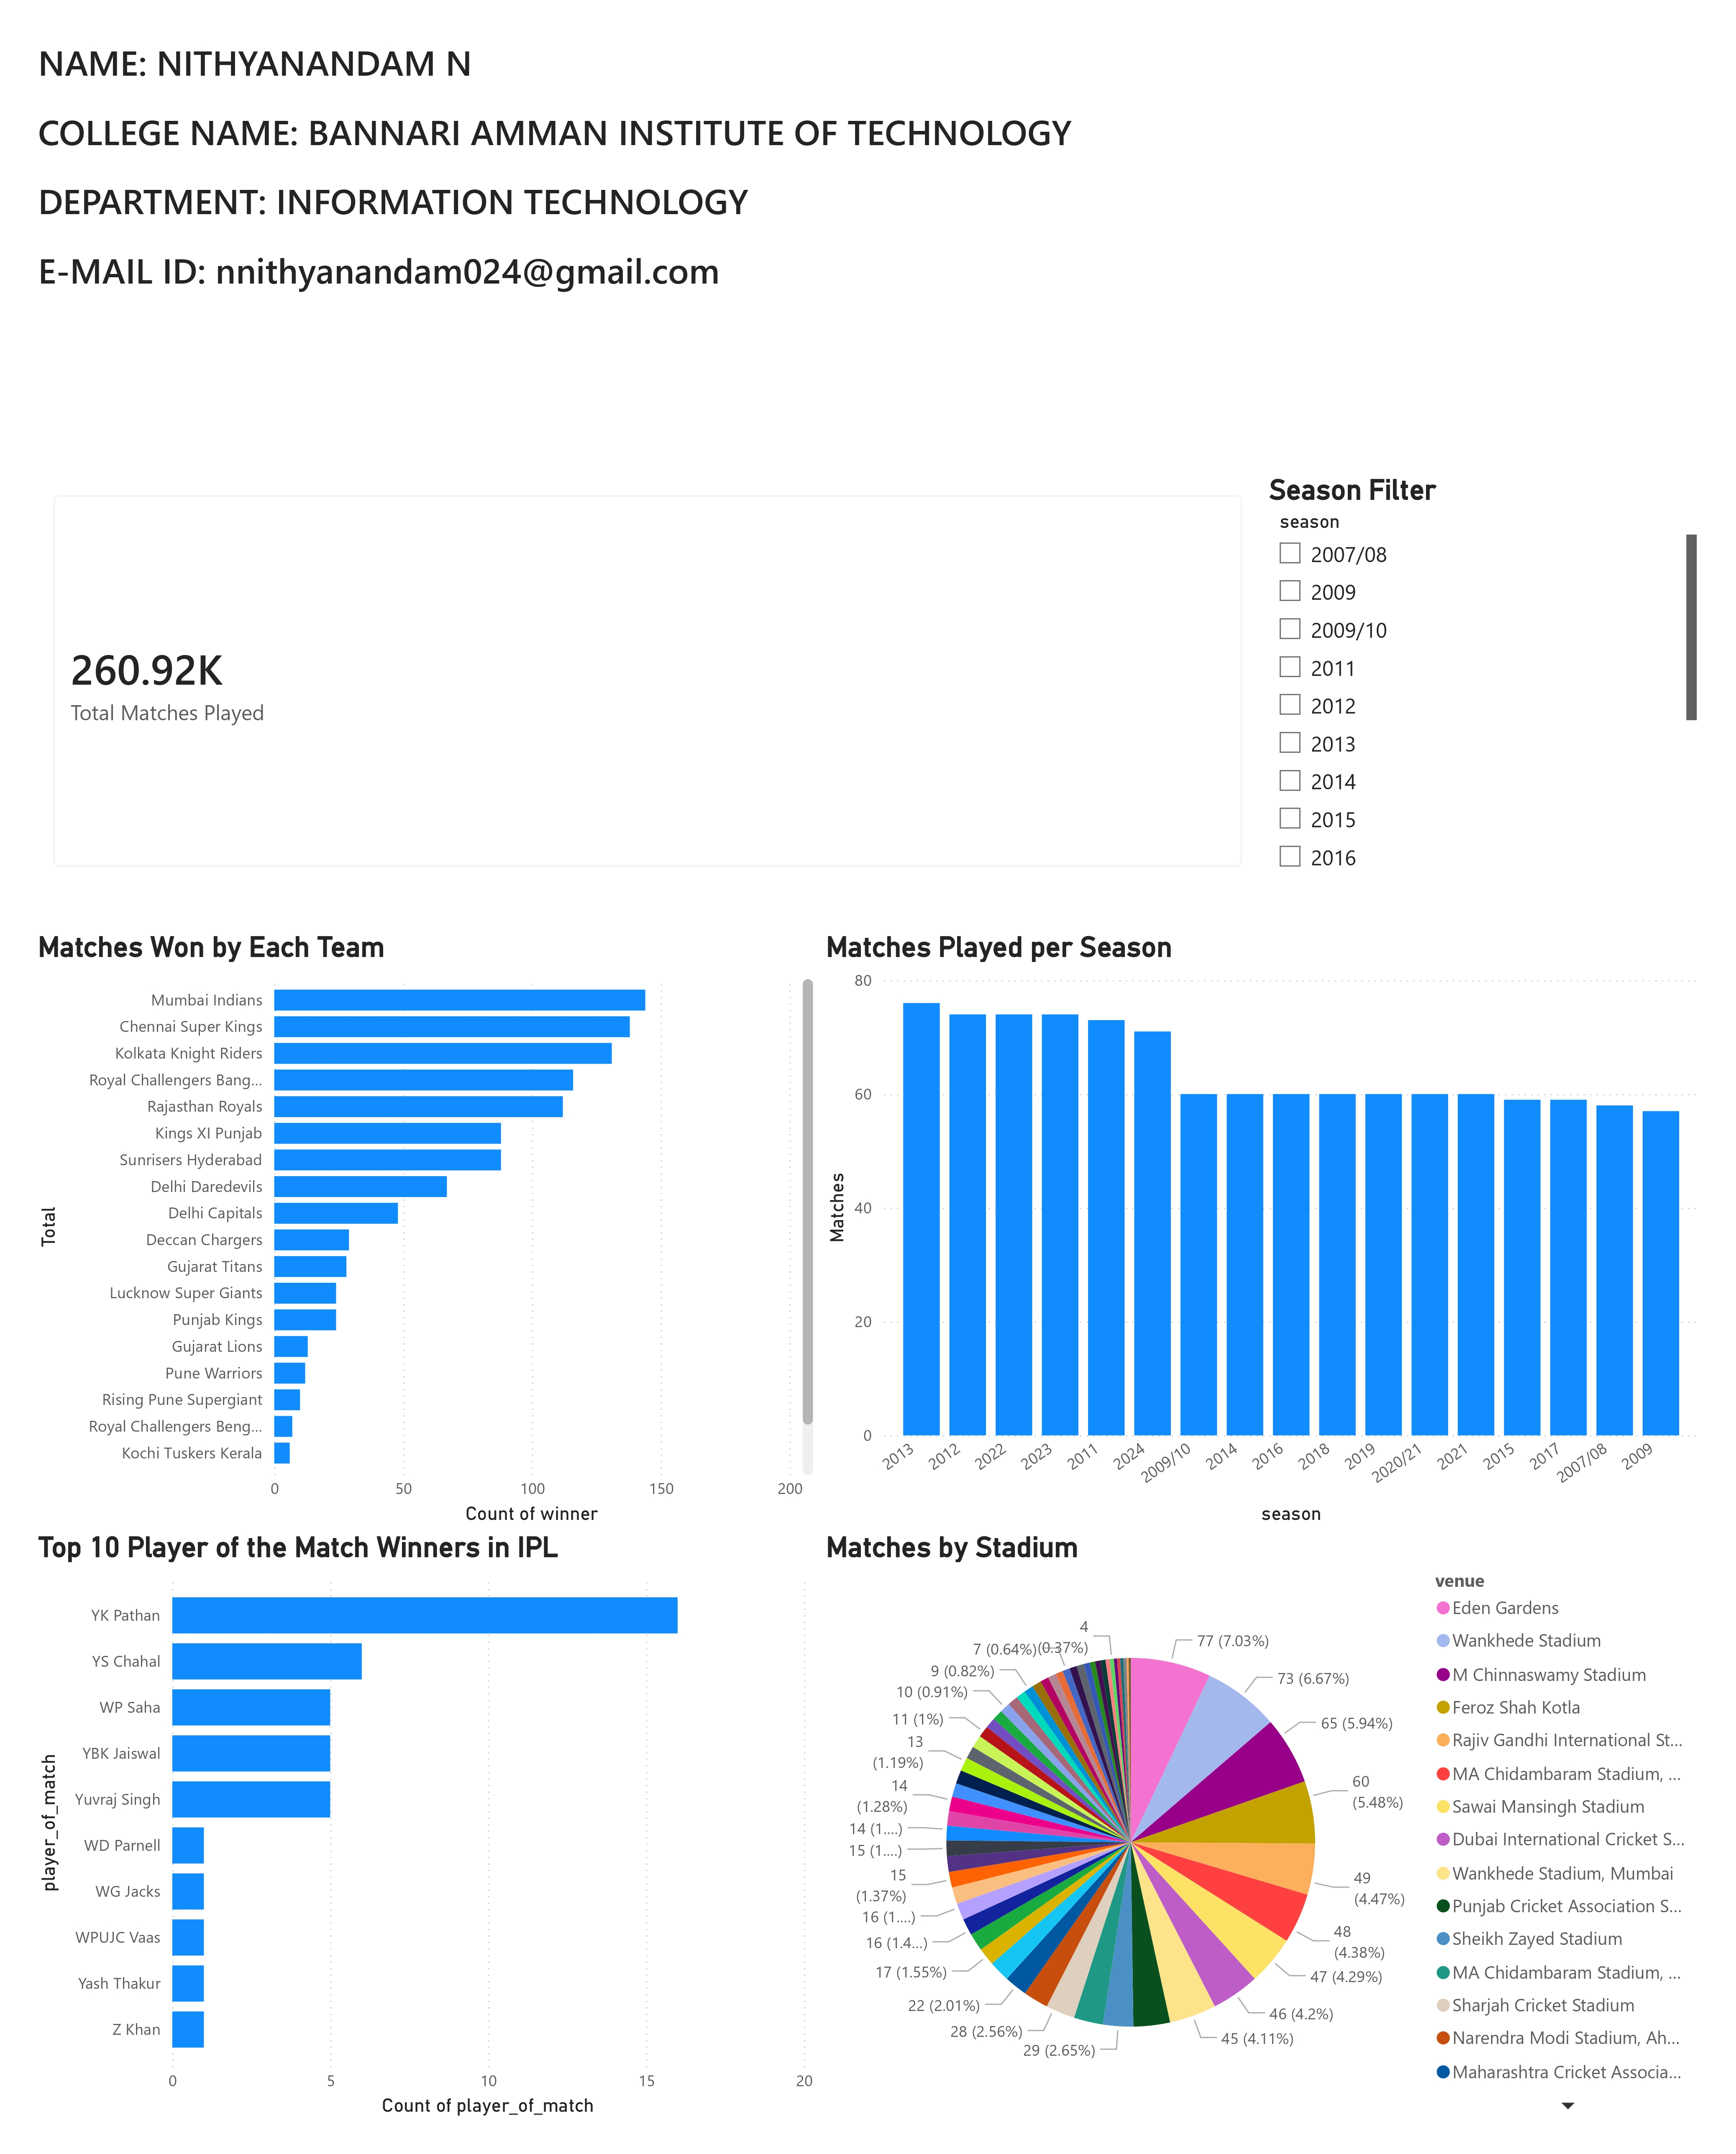

This screenshot's page, from the dashboard's own definition file:
{"tool":"powerbi","page":{"name":"IPL Data","canvas":[1280,1600],"ordinal":0},"visuals":[{"type":"cardVisual","fields":{"Data":["CountNonNull(deliveries.match_id)"]},"box":[0,338,943,318],"z":0},{"type":"clusteredBarChart","title":"Matches Won by Each Team","fields":{"Category":["matches.winner"],"Y":["CountNonNull(matches.winner)"]},"box":[0,688,603,459],"z":1000},{"type":"columnChart","title":"Matches Played per Season","fields":{"Category":["matches.season"],"Y":["CountNonNull(matches.id)"]},"box":[603,688,677,459],"z":2000},{"type":"clusteredBarChart","title":"Top 10 Player of the Match Winners in IPL","fields":{"Category":["matches.player_of_match"],"Y":["CountNonNull(matches.player_of_match)"]},"box":[0,1147,603,453],"z":3000},{"type":"pieChart","title":"Matches by Stadium","fields":{"Category":["matches.venue"],"Y":["CountNonNull(matches.id)"]},"box":[603,1147,677,453],"z":3001},{"type":"slicer","title":"Season Filter","fields":{"Values":["matches.season"]},"box":[942,338,337,318],"z":3002},{"type":"textbox","box":[0,0,943,318],"z":3003}]}

Visuals, with their boxes on the page's 1280x1600 design canvas (x1, y1, x2, y2). These are canvas units, not pixel positions in the 1736x2154 screenshot, which may show the page scaled, cropped or inside an application window:
cardVisual - CountNonNull(deliveries.match_id): BBox(0, 338, 943, 656)
"Matches Won by Each Team" clusteredBarChart: BBox(0, 688, 603, 1147)
"Matches Played per Season" columnChart: BBox(603, 688, 1280, 1147)
"Top 10 Player of the Match Winners in IPL" clusteredBarChart: BBox(0, 1147, 603, 1600)
"Matches by Stadium" pieChart: BBox(603, 1147, 1280, 1600)
"Season Filter" slicer: BBox(942, 338, 1279, 656)
textbox: BBox(0, 0, 943, 318)
